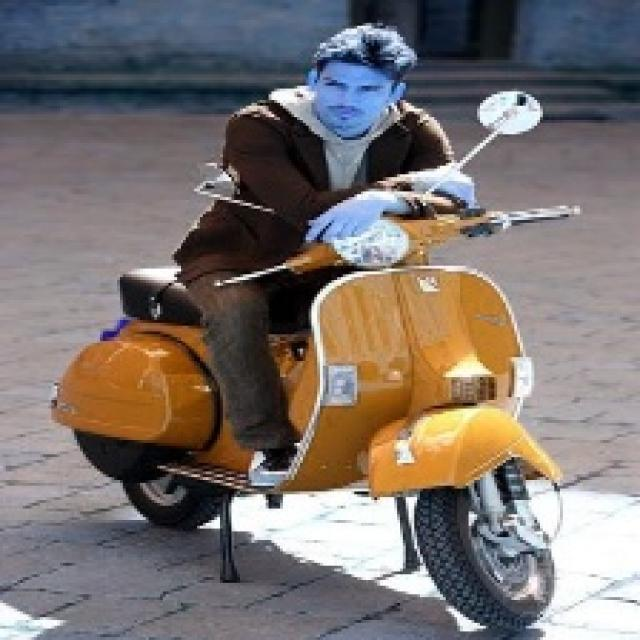bike: (102, 190, 599, 636)
